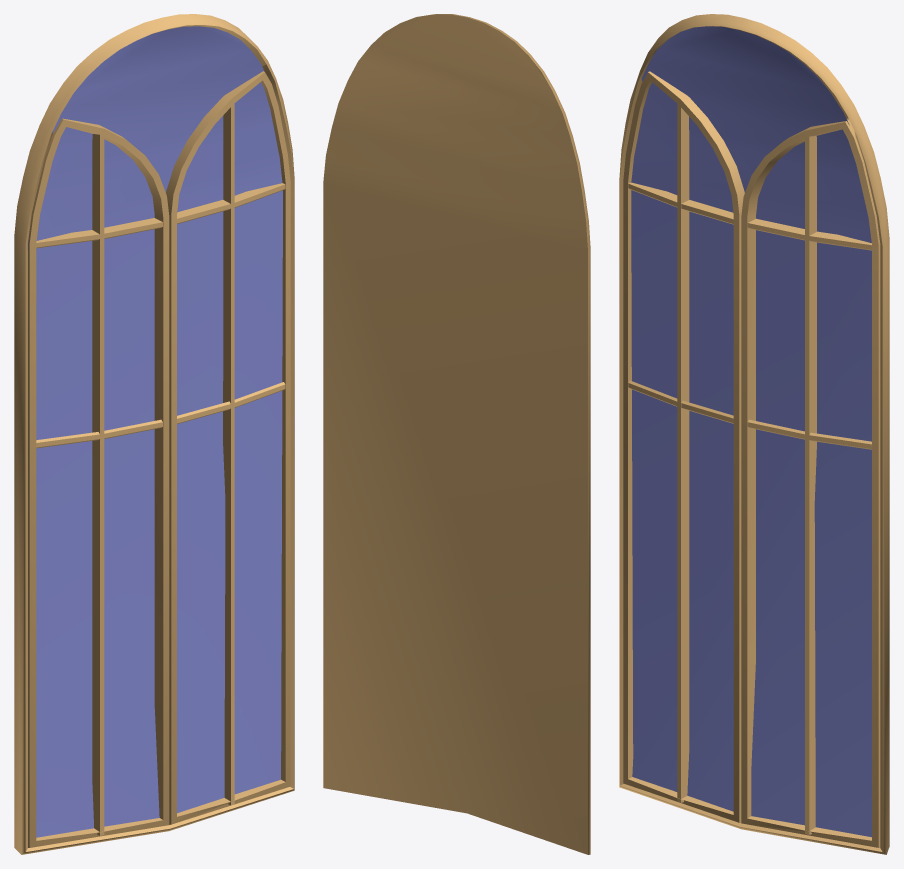
File: SP_House08_Window04.fbx
The picture shows the model from 3 angles, left to right: view 1: azimuth 30°, elevation 25°; view 2: azimuth 150°, elevation 25°; view 3: azimuth 330°, elevation 25°; orthographic projection.
Visible parts, largest first — view 1: SP_House08_Window04; view 2: SP_House08_Window04; view 3: SP_House08_Window04.
Boxes of the visible parts, x1,y1,x2,y2 form: SP_House08_Window04: (14, 14, 294, 854); SP_House08_Window04: (323, 14, 590, 854); SP_House08_Window04: (619, 14, 889, 854).
Size of the model in its own units: 0.8931 by 2.53 by 0.1075.
